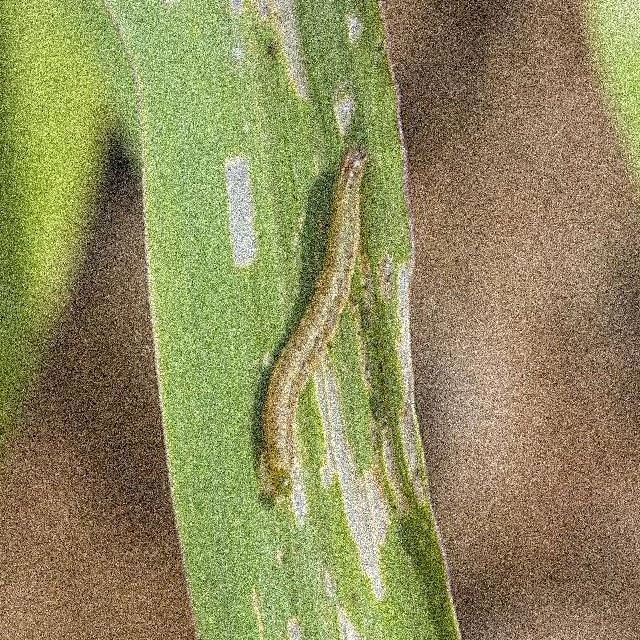gusano_cogollero: (258, 142, 375, 486)
